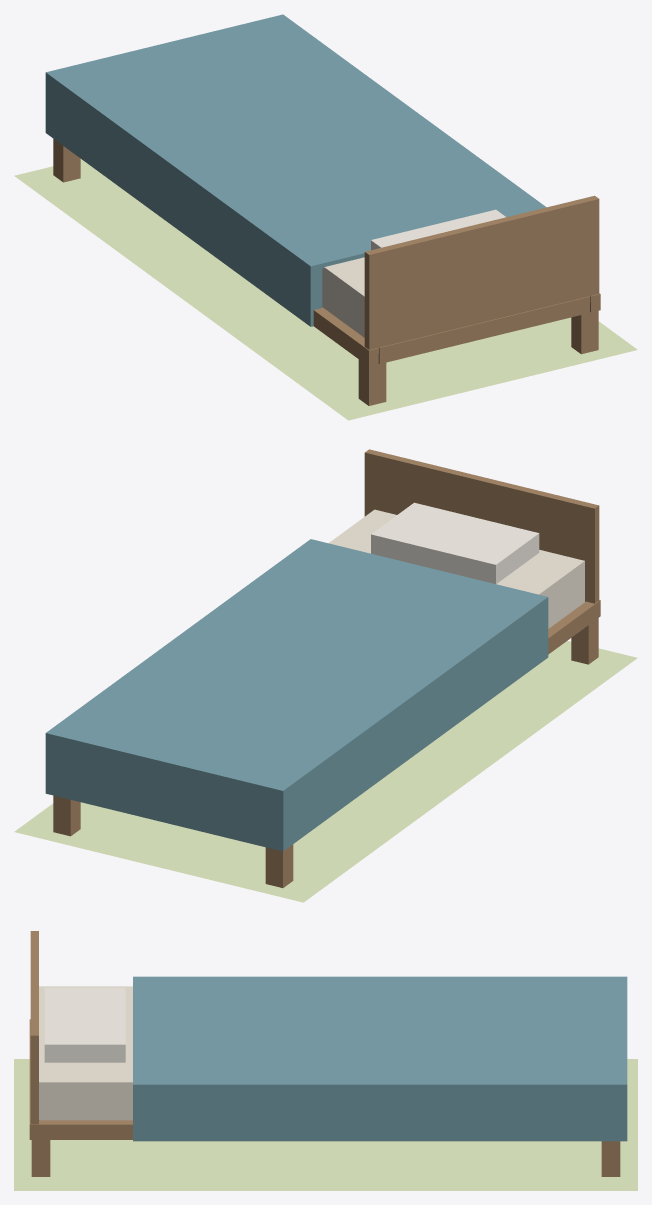
The model's file is bed.glb.
3 renders of one model, top to bottom at view 1: azimuth 30°, elevation 25°; view 2: azimuth 150°, elevation 25°; view 3: azimuth 270°, elevation 25°, orthographic. The views are drawn at different scales.
Parts seen in each view (by area): view 1: blanket_main, baseplate, headboard, blanket_foot_wrap, frame_head, mattress, frame_rail_L, pillow, leg_BL, leg_BR, leg_FL; view 2: blanket_main, baseplate, blanket_foot_wrap, headboard, pillow, mattress, frame_rail_L, leg_FL, leg_FR, leg_BL; view 3: blanket_main, baseplate, mattress, pillow, blanket_foot_wrap, frame_rail_R, headboard, leg_BR, leg_FR.
Part boxes in pixels (box(x1,y1,x2,y2)): blanket_main: box(61, 25, 546, 326); baseplate: box(14, 159, 637, 420); headboard: box(364, 195, 599, 353); blanket_foot_wrap: box(45, 14, 298, 144); frame_head: box(378, 296, 589, 363); mattress: box(322, 257, 364, 337); frame_rail_L: box(313, 307, 378, 366); pillow: box(371, 209, 505, 249); leg_BL: box(358, 359, 386, 405); leg_BR: box(571, 311, 598, 354); leg_FL: box(53, 139, 80, 182); blanket_main: box(61, 539, 548, 839); baseplate: box(14, 640, 637, 902); blanket_foot_wrap: box(45, 722, 299, 851); headboard: box(364, 449, 599, 603); pillow: box(371, 502, 539, 583); mattress: box(329, 509, 584, 628); frame_rail_L: box(548, 600, 600, 654); leg_FL: box(265, 844, 293, 887); leg_FR: box(53, 795, 80, 836); leg_BL: box(571, 618, 598, 664); blanket_main: box(133, 976, 598, 1141); baseplate: box(14, 1059, 637, 1190); mattress: box(39, 986, 132, 1120); pillow: box(44, 987, 125, 1062); blanket_foot_wrap: box(596, 976, 627, 1141); frame_rail_R: box(29, 1120, 132, 1139); headboard: box(30, 931, 38, 1124); leg_BR: box(31, 1140, 50, 1176); leg_FR: box(601, 1141, 620, 1176).
Bounding box in the file's own units: 1.5 × 0.751 × 3.
